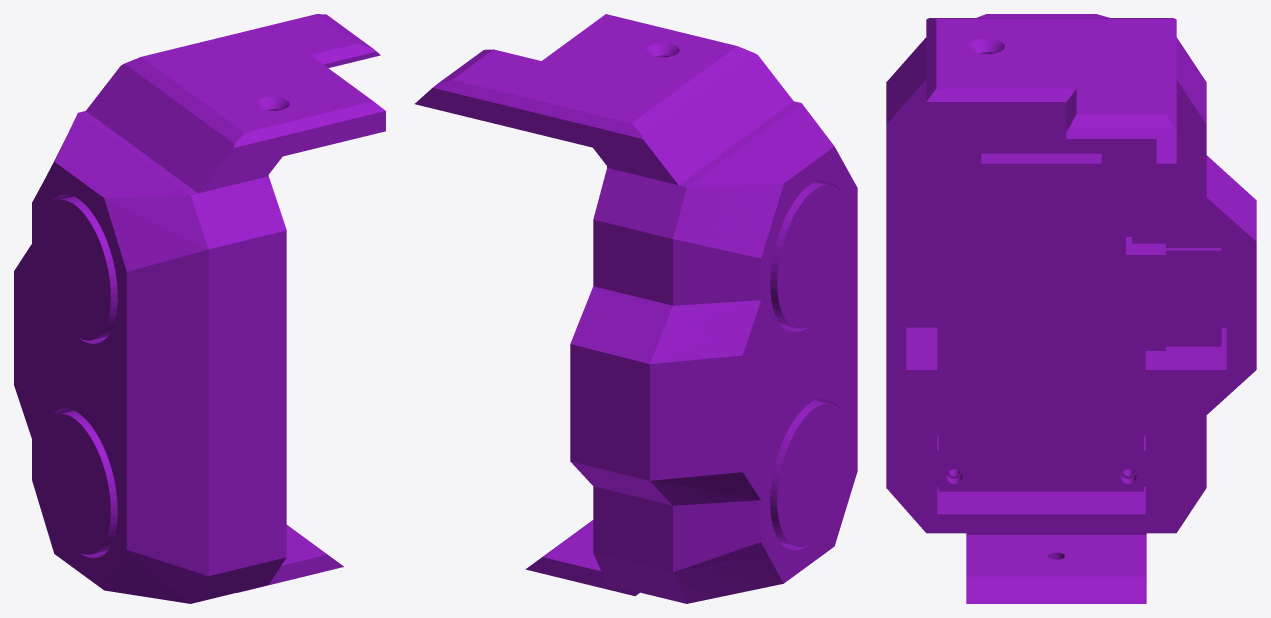
File: radar-side-rf.obj
3 views of the same model, side by side, from view 1: azimuth 30°, elevation 25°; view 2: azimuth 150°, elevation 25°; view 3: azimuth 270°, elevation 25° (orthographic). The views are drawn at different scales.
Parts seen in each view (by area): view 1: \u5c0f\u817f-\u8d85\u58f0\u6ce2\u4f20\u611f\u5668\u5916\u7f69-\u, \u5c0f\u817f-\u8d85\u58f0\u6ce2\u4f20\u611f\u5668SR04P-\u53f3\u5; view 2: \u5c0f\u817f-\u8d85\u58f0\u6ce2\u4f20\u611f\u5668\u5916\u7f69-\u, \u5c0f\u817f-\u8d85\u58f0\u6ce2\u4f20\u611f\u5668SR04P-\u53f3\u5; view 3: \u5c0f\u817f-\u8d85\u58f0\u6ce2\u4f20\u611f\u5668\u5916\u7f69-\u, \u5c0f\u817f-\u8d85\u58f0\u6ce2\u4f20\u611f\u5668SR04P-\u53f3\u5.
Boxes of the visible parts, bbox=[...] form: \u5c0f\u817f-\u8d85\u58f0\u6ce2\u4f20\u611f\u5668\u5916\u7f69-\u: bbox=[14, 14, 385, 603]; \u5c0f\u817f-\u8d85\u58f0\u6ce2\u4f20\u611f\u5668SR04P-\u53f3\u5: bbox=[38, 196, 117, 554]; \u5c0f\u817f-\u8d85\u58f0\u6ce2\u4f20\u611f\u5668\u5916\u7f69-\u: bbox=[415, 14, 857, 603]; \u5c0f\u817f-\u8d85\u58f0\u6ce2\u4f20\u611f\u5668SR04P-\u53f3\u5: bbox=[770, 181, 850, 547]; \u5c0f\u817f-\u8d85\u58f0\u6ce2\u4f20\u611f\u5668\u5916\u7f69-\u: bbox=[886, 14, 1256, 603]; \u5c0f\u817f-\u8d85\u58f0\u6ce2\u4f20\u611f\u5668SR04P-\u53f3\u5: bbox=[938, 107, 1221, 491].
Bounding box in the file's own units: 42.4 × 57.7 × 37.
